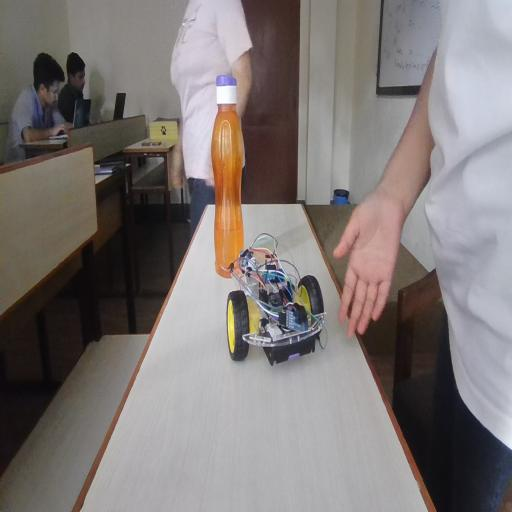Bottle: (204, 86, 252, 244)
car: (235, 262, 327, 368)
